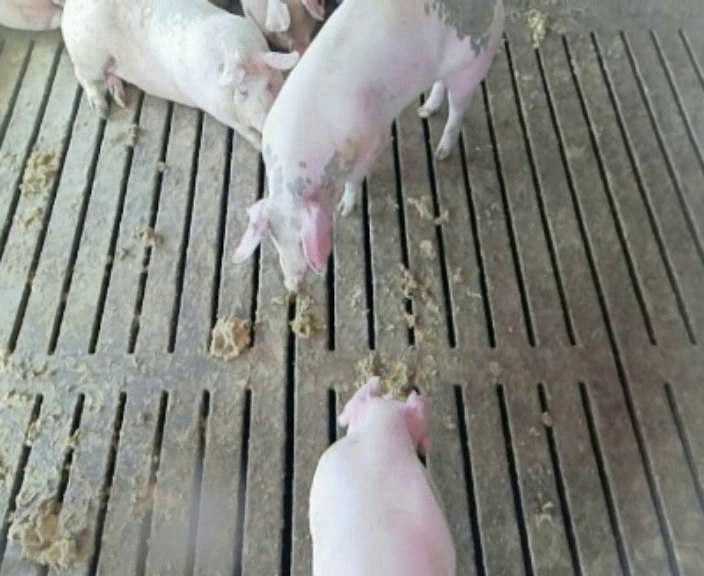pig: (234, 2, 500, 289), (62, 2, 297, 147), (309, 377, 454, 574), (241, 1, 325, 53)
